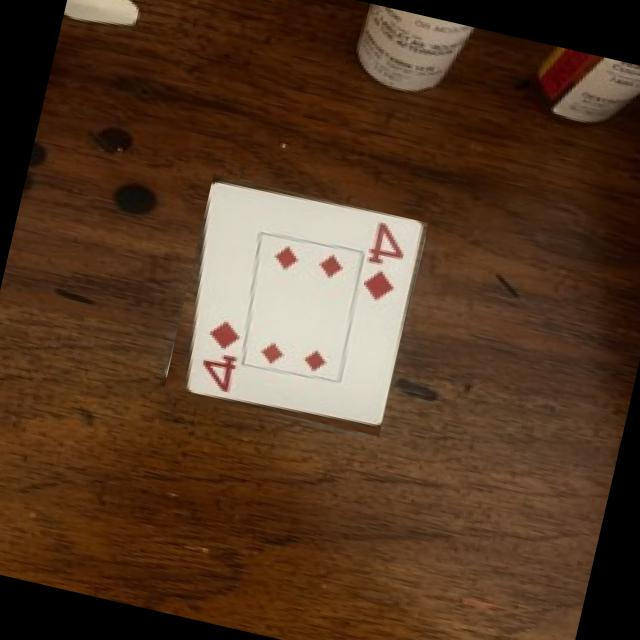4 of diamonds: (186, 182, 419, 422)
